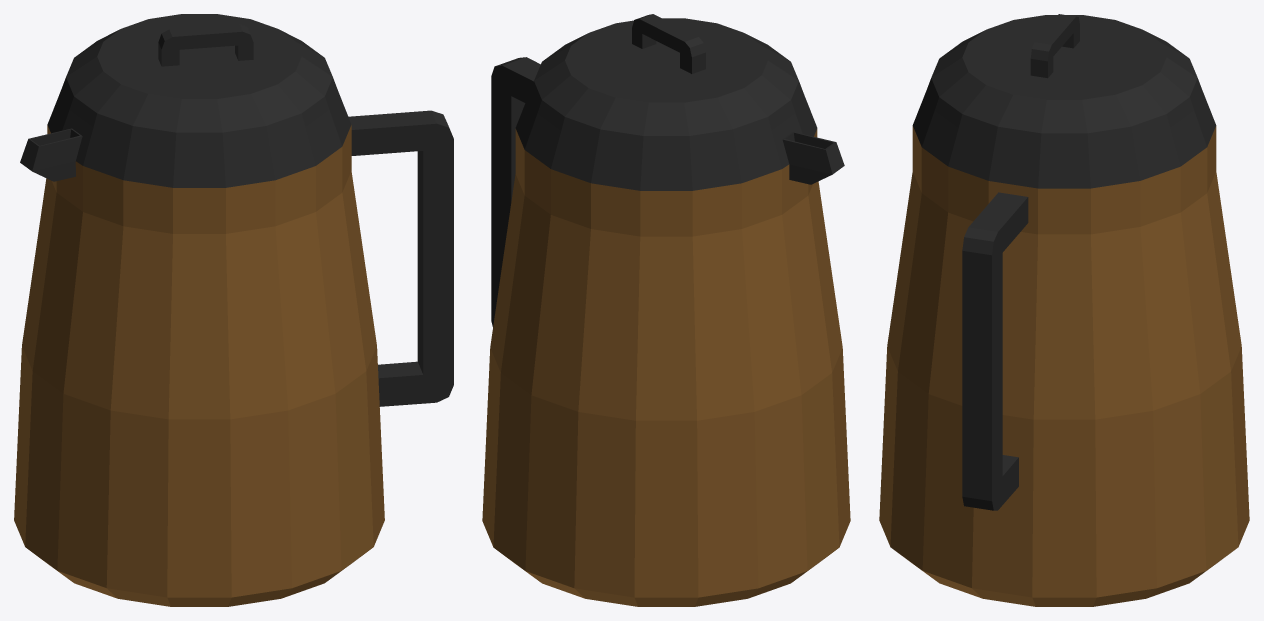
Rendered from Tea Pot_2.fbx.
3 renders of one model, left to right at view 1: azimuth 30°, elevation 25°; view 2: azimuth 150°, elevation 25°; view 3: azimuth 270°, elevation 25°, orthographic.
Parts seen in each view (by area): view 1: Tea Pot_2; view 2: Tea Pot_2; view 3: Tea Pot_2.
Part boxes in pixels (x1,y1,x2,y2): Tea Pot_2: [14, 14, 453, 606]; Tea Pot_2: [482, 14, 850, 606]; Tea Pot_2: [879, 14, 1249, 606].
Size of the model in its own units: 0.2229 by 0.282 by 0.1854.
